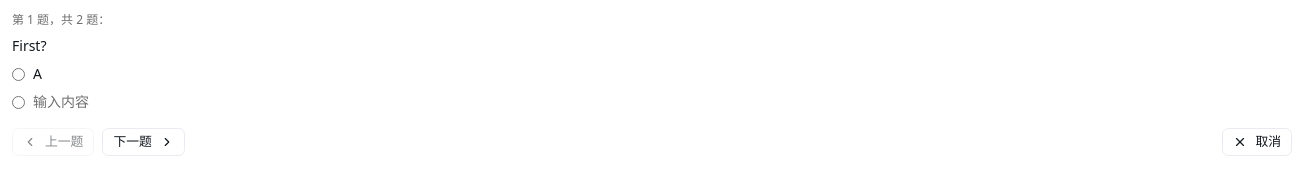
Test case: AskUserQuestionForm — zh-CN › renders progress text for multi-question carousel in Chinese
Expected: the text with test id "ask-user-question-progress" reads "第 1 题，共 2 题：", x1=12 y1=11 x2=110 y2=28
Click the button with test id "ask-user-question-next": (144, 142) x1=102 y1=128 x2=185 y2=156
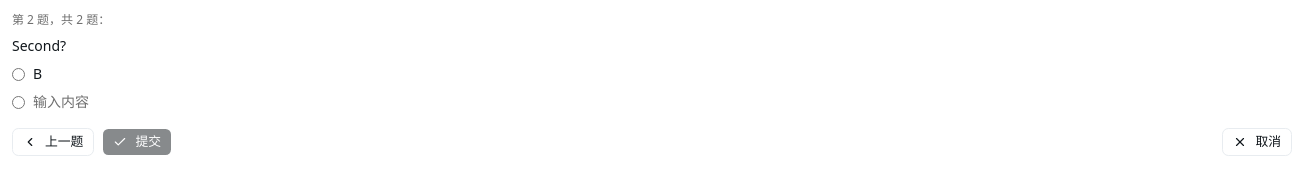
Expected: the text with test id "ask-user-question-progress" reads "第 2 题，共 2 题：", x1=12 y1=11 x2=110 y2=28
